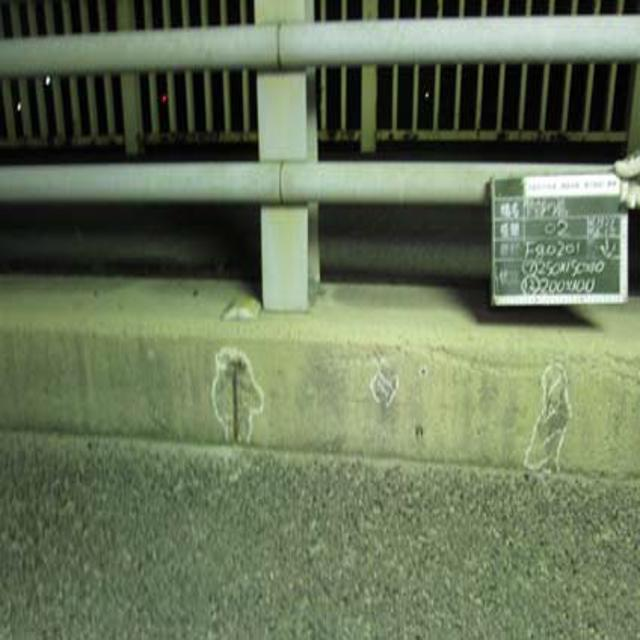spalling: (188, 336, 258, 443), (514, 359, 577, 477)
